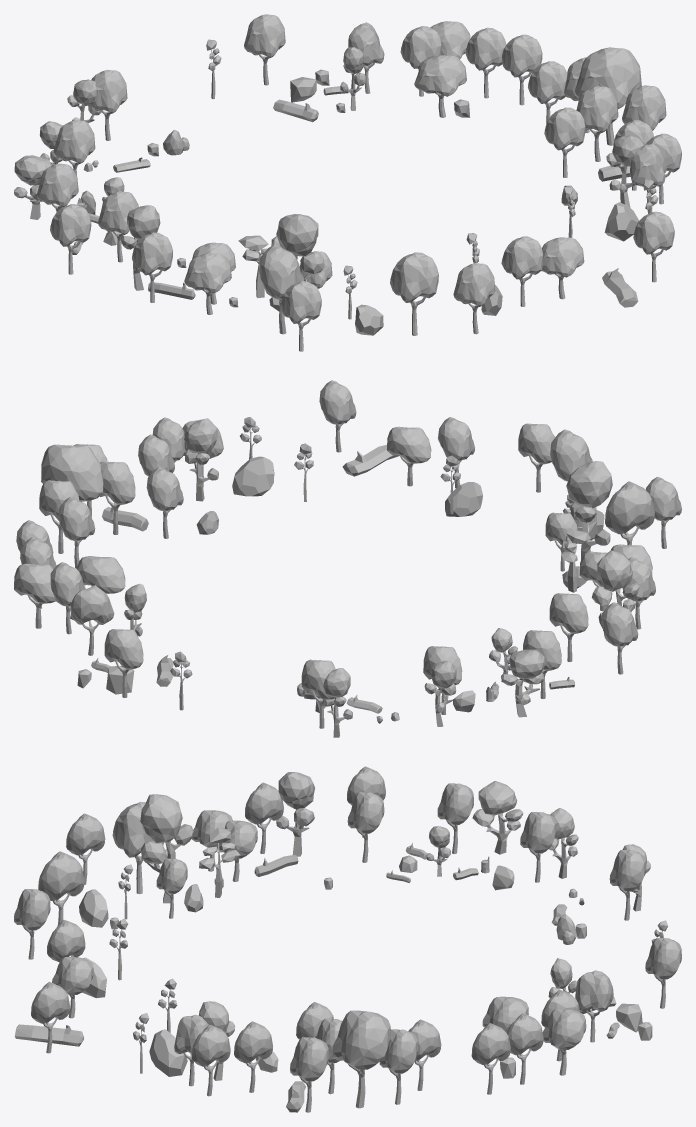
The model's file is Trees.fbx.
3 views of the same model, one above another, from view 1: azimuth 30°, elevation 25°; view 2: azimuth 150°, elevation 25°; view 3: azimuth 270°, elevation 25° (orthographic). The views are drawn at different scales.
Visible parts, largest first — view 1: Tree_03_LOD037, Tree_03_LOD027, Tree_01_LOD016, Tree_03_LOD022, Tree_03_LOD010, Tree_03_LOD011, Tree_03_LOD023, Tree_03_LOD017, Tree_03_LOD018, Tree_03_LOD019, Tree_03_LOD024, Tree_03_LOD025 (+31 smaller); view 2: Tree_01_LOD016, Tree_03_LOD037, Tree_03_LOD022, Tree_01_LOD015, Tree_01_LOD013, Tree_01_LOD011, Tree_03_LOD012, Tree_03_LOD038, Tree_03_LOD017, Tree_03_LOD039, Tree_03_LOD013, Tree_03_LOD011 (+31 smaller); view 3: Tree_03_LOD037, Tree_01_LOD016, Tree_01_LOD013, Tree_01_LOD015, Tree_03_LOD027, Tree_03_LOD022, Tree_03_LOD038, Tree_03_LOD036, Tree_03_LOD012, Tree_03_LOD035, Tree_03_LOD032, Tree_03_LOD031 (+33 smaller).
Part boxes in pixels (x1=…): Tree_03_LOD037: x1=574, y1=47, x2=641, y2=145; Tree_03_LOD027: x1=390, y1=252, x2=438, y2=335; Tree_01_LOD016: x1=271, y1=214, x2=324, y2=281; Tree_03_LOD022: x1=259, y1=244, x2=303, y2=334; Tree_03_LOD010: x1=414, y1=55, x2=466, y2=117; Tree_03_LOD011: x1=576, y1=86, x2=618, y2=161; Tree_03_LOD023: x1=184, y1=253, x2=231, y2=314; Tree_03_LOD017: x1=244, y1=14, x2=285, y2=85; Tree_03_LOD018: x1=453, y1=263, x2=495, y2=334; Tree_03_LOD019: x1=501, y1=236, x2=543, y2=306; Tree_03_LOD024: x1=50, y1=204, x2=91, y2=274; Tree_03_LOD025: x1=132, y1=232, x2=172, y2=302; Tree_01_LOD016: x1=566, y1=461, x2=612, y2=559; Tree_03_LOD037: x1=41, y1=444, x2=103, y2=501; Tree_03_LOD022: x1=605, y1=481, x2=654, y2=545; Tree_01_LOD015: x1=591, y1=550, x2=639, y2=611; Tree_01_LOD013: x1=501, y1=649, x2=545, y2=717; Tree_01_LOD011: x1=184, y1=419, x2=218, y2=501; Tree_03_LOD012: x1=70, y1=585, x2=114, y2=655; Tree_03_LOD038: x1=14, y1=563, x2=55, y2=628; Tree_03_LOD017: x1=104, y1=629, x2=143, y2=697; Tree_03_LOD039: x1=387, y1=426, x2=431, y2=486; Tree_03_LOD013: x1=549, y1=593, x2=588, y2=661; Tree_03_LOD011: x1=99, y1=461, x2=135, y2=534; Tree_03_LOD037: x1=332, y1=1010, x2=390, y2=1108; Tree_01_LOD016: x1=140, y1=794, x2=193, y2=903; Tree_01_LOD013: x1=472, y1=781, x2=523, y2=854; Tree_01_LOD015: x1=276, y1=772, x2=314, y2=856; Tree_03_LOD027: x1=38, y1=851, x2=84, y2=925; Tree_03_LOD022: x1=112, y1=801, x2=163, y2=893; Tree_03_LOD038: x1=542, y1=1008, x2=586, y2=1075; Tree_03_LOD036: x1=290, y1=1037, x2=328, y2=1112; Tree_03_LOD012: x1=575, y1=970, x2=613, y2=1042; Tree_03_LOD035: x1=379, y1=1029, x2=418, y2=1104; Tree_03_LOD032: x1=191, y1=1024, x2=230, y2=1096; Tree_03_LOD031: x1=234, y1=1021, x2=272, y2=1092.
Size of what is drawn, in the model's own units: 5236 by 981 by 5074.
